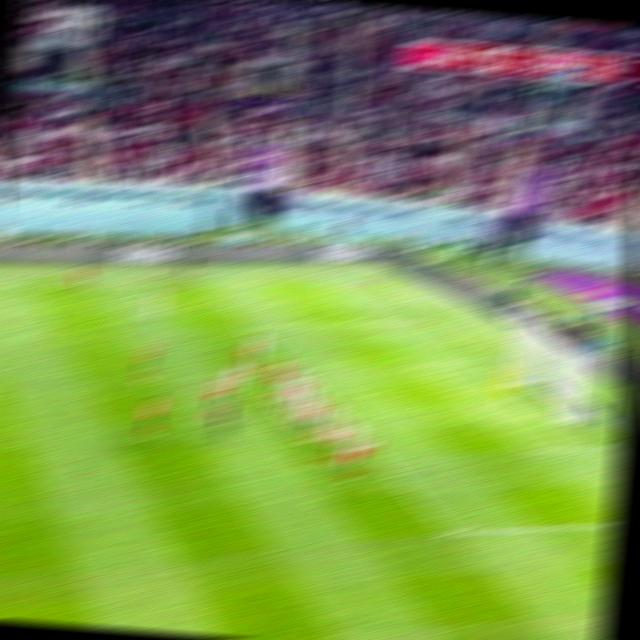bigarea_bottom_inner: (437, 519, 468, 543)
bigarea_top_inner: (241, 318, 263, 333)
bigarea_top_outter: (412, 313, 435, 328)
bottom_arc_area_intersection: (354, 437, 379, 452)
corner: (355, 275, 379, 287)
smallarea_bottom_inner: (518, 437, 547, 460)
smallarea_bottom_outter: (591, 437, 617, 454)
smallarea_top_inner: (409, 354, 434, 370)
smallarea_top_outter: (466, 352, 492, 366)
